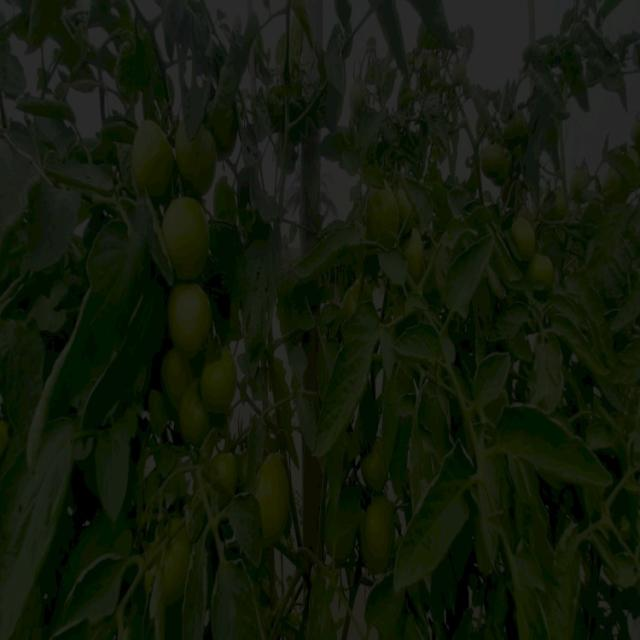tomato: (166, 195, 210, 278), (132, 116, 177, 194), (261, 454, 297, 551), (361, 501, 401, 579), (182, 128, 228, 195), (196, 346, 235, 422), (171, 285, 210, 356), (160, 521, 193, 592), (162, 349, 199, 408), (186, 383, 214, 457), (209, 448, 243, 505), (372, 192, 404, 244), (405, 225, 432, 277), (365, 437, 388, 495), (530, 248, 562, 288), (485, 137, 510, 188), (571, 157, 593, 207), (343, 80, 369, 117), (553, 185, 573, 223), (515, 220, 537, 252), (510, 108, 532, 139)
